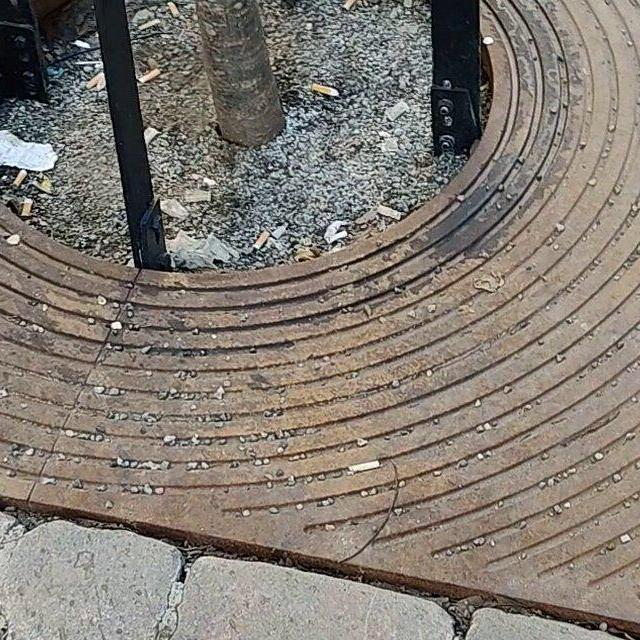Cigarette Butt: (313, 81, 341, 100), (13, 164, 27, 190), (85, 69, 102, 89), (144, 65, 166, 80), (253, 231, 267, 253), (168, 0, 179, 18), (23, 196, 31, 220), (343, 0, 357, 11)
